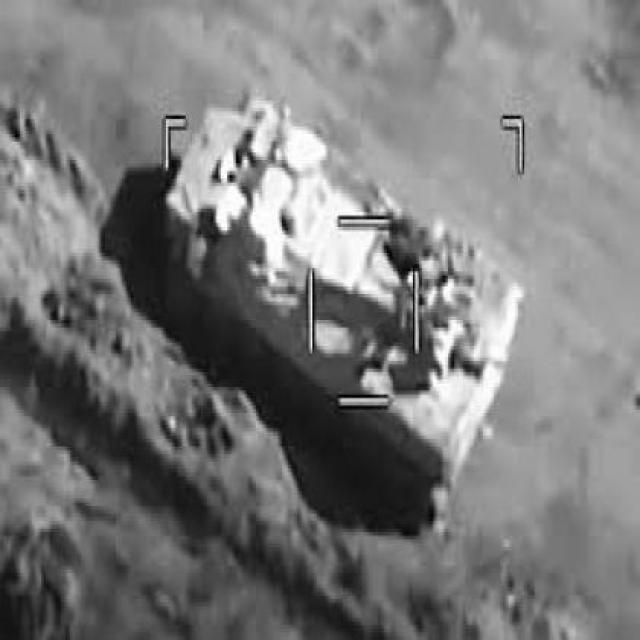tank: (158, 89, 522, 540)
